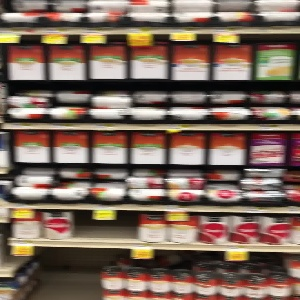void: (35, 247, 98, 300), (71, 211, 136, 242)
